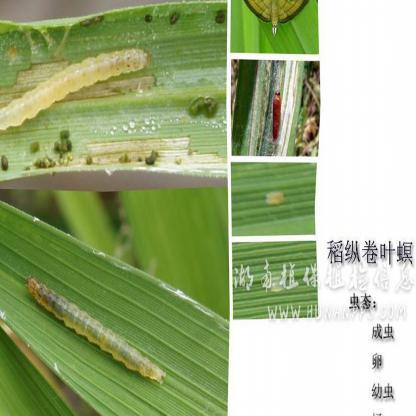leaf-folder: (26, 260, 170, 398), (2, 36, 154, 138), (266, 82, 286, 143), (260, 182, 294, 215)
